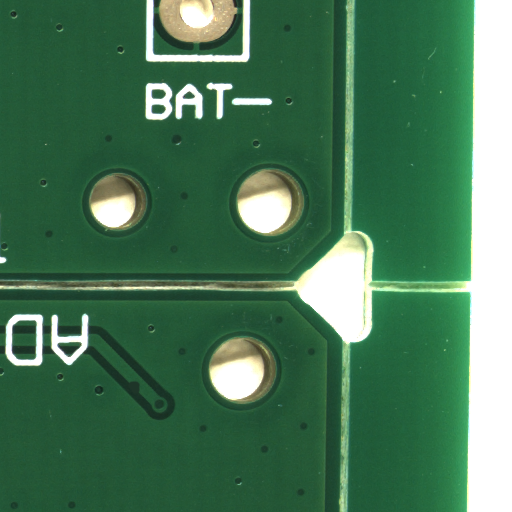Mouse_bite: (135, 387, 146, 399)
